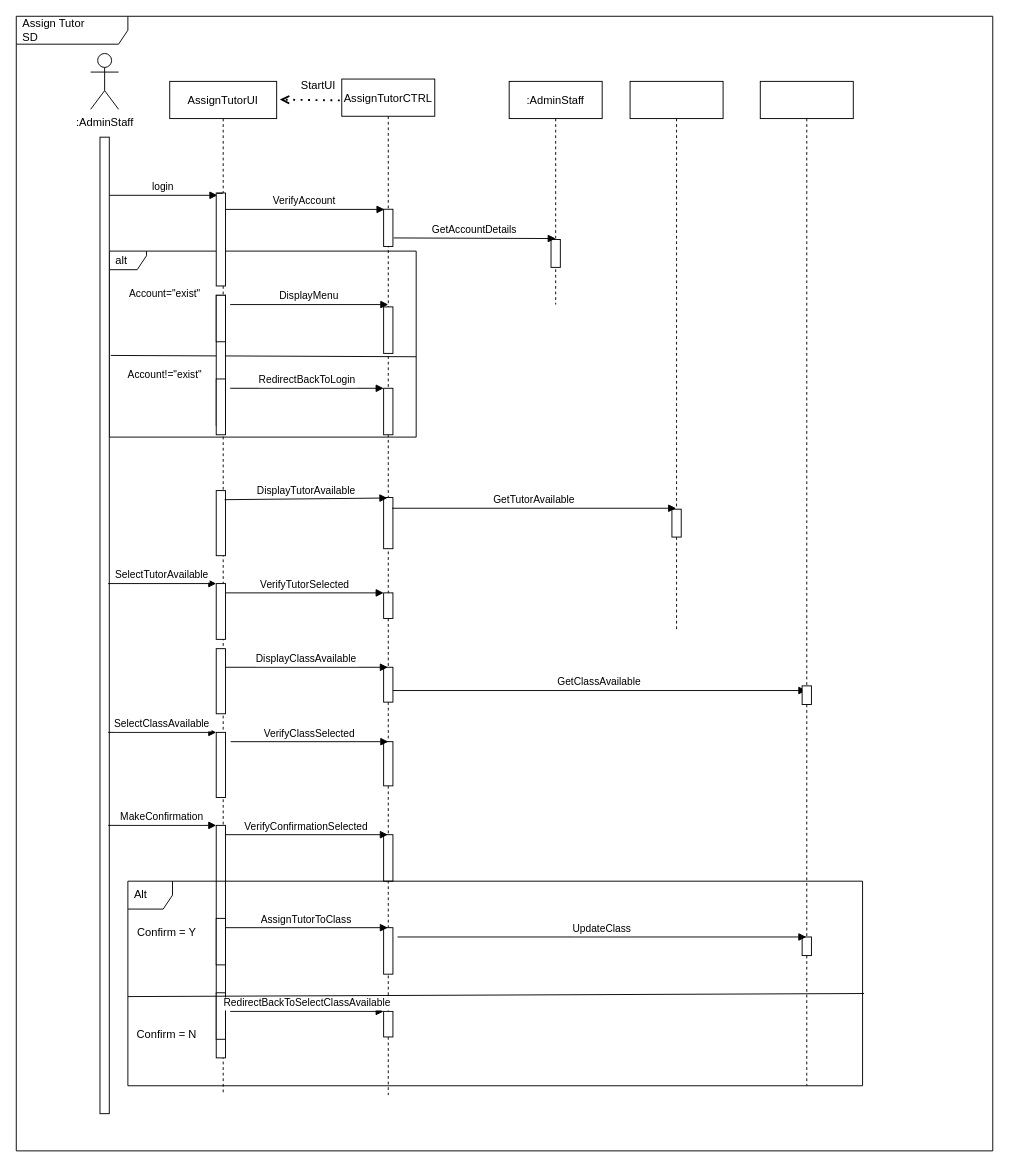
Image size: 1009x1167. Some labels were removed from this diagram. Each missing label, with the box of its shape:
:Class: (759, 80, 853, 1086)
:Tutor: (629, 80, 723, 630)
